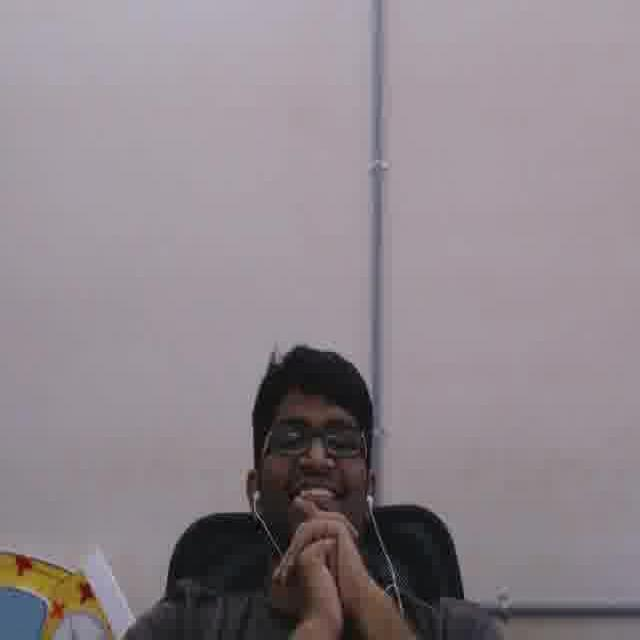Engaged: (259, 384, 363, 544)
